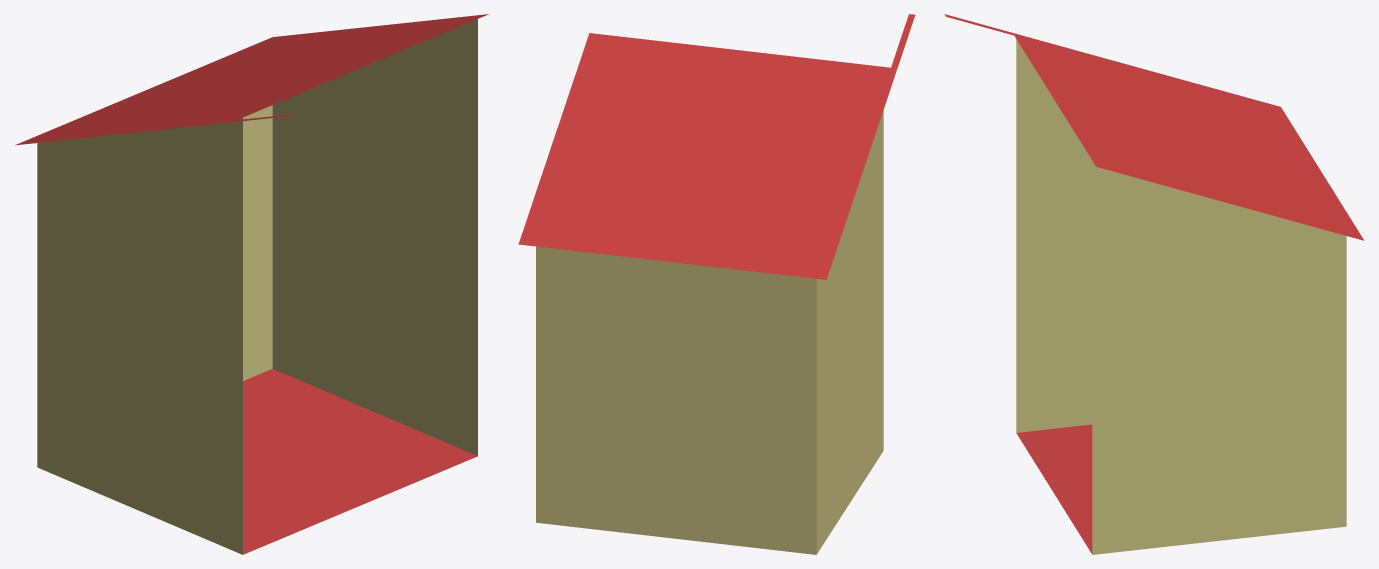
3 renders of one model, left to right at view 1: azimuth 30°, elevation 25°; view 2: azimuth 150°, elevation 25°; view 3: azimuth 270°, elevation 25°, orthographic. The views are drawn at different scales.
Size of the model in its own units: 6.63 by 7.18 by 7.93.
